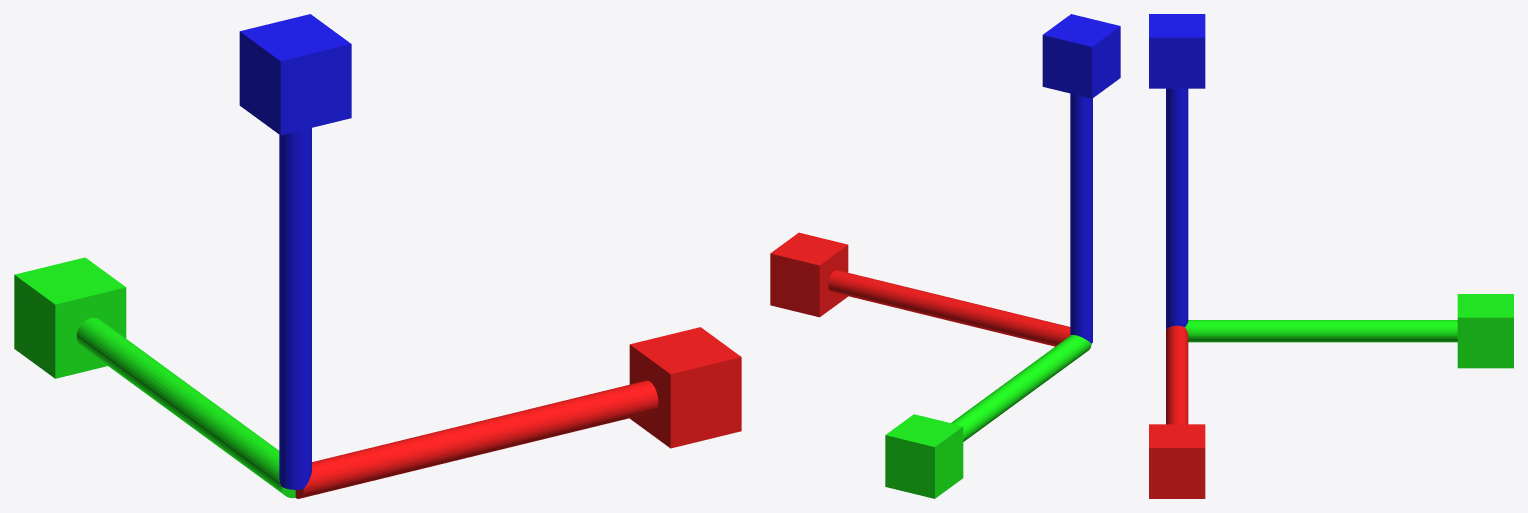
The model's file is scale_gizmo.obj.
3 renders of one model, left to right at view 1: azimuth 30°, elevation 25°; view 2: azimuth 150°, elevation 25°; view 3: azimuth 270°, elevation 25°, orthographic. The views are drawn at different scales.
Visible parts, largest first — view 1: Scale_Z_Cylinder.010, Scale_X_Cylinder.008, Scale_Y_Cylinder.009; view 2: Scale_Z_Cylinder.010, Scale_X_Cylinder.008, Scale_Y_Cylinder.009; view 3: Scale_Y_Cylinder.009, Scale_Z_Cylinder.010, Scale_X_Cylinder.008.
Boxes of the visible parts, x1=… form: Scale_Z_Cylinder.010: x1=239, y1=14, x2=351, y2=489; Scale_X_Cylinder.008: x1=295, y1=327, x2=741, y2=498; Scale_Y_Cylinder.009: x1=14, y1=257, x2=295, y2=498; Scale_Z_Cylinder.010: x1=1042, y1=14, x2=1120, y2=343; Scale_X_Cylinder.008: x1=770, y1=232, x2=1070, y2=346; Scale_Y_Cylinder.009: x1=885, y1=335, x2=1091, y2=498; Scale_Y_Cylinder.009: x1=1185, y1=294, x2=1513, y2=368; Scale_Z_Cylinder.010: x1=1149, y1=14, x2=1205, y2=329; Scale_X_Cylinder.008: x1=1149, y1=325, x2=1205, y2=498.
Bounding box in the file's own units: 1.3 × 1.3 × 1.3.
